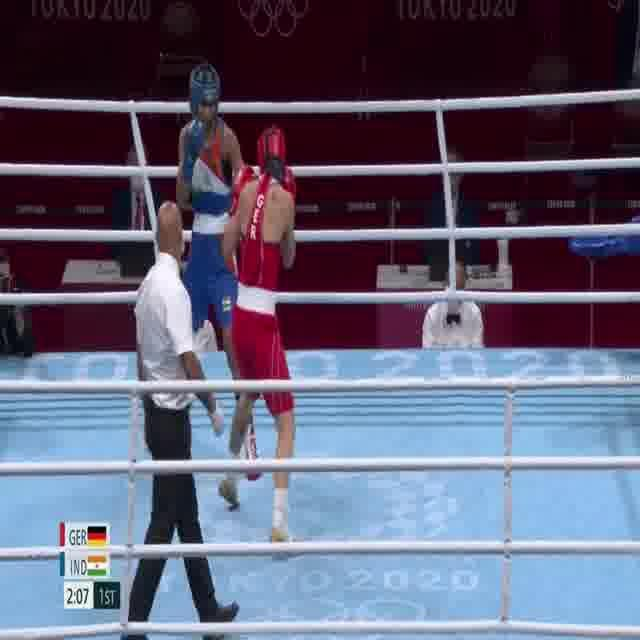blue-player: (152, 57, 268, 480)
red-player: (219, 121, 302, 564)
referee: (120, 197, 241, 640)
